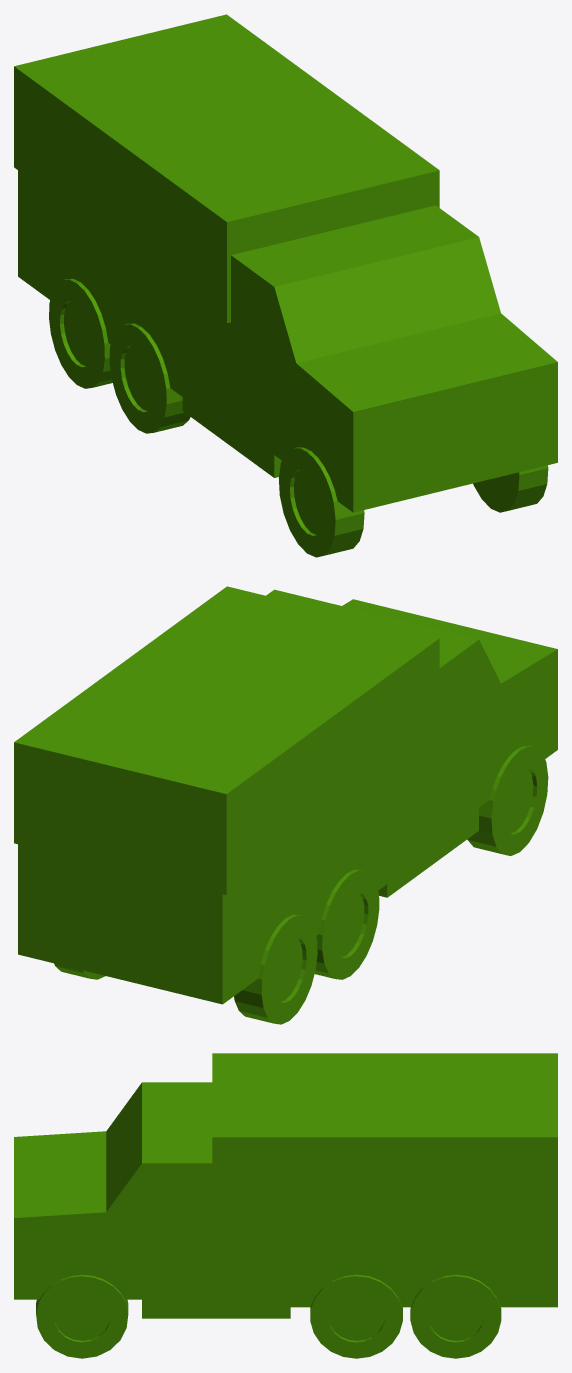
File: Boardgame_Piece_Military_Modern_Truck_Green_01.fbx
3 views of the same model, one above another, from view 1: azimuth 30°, elevation 25°; view 2: azimuth 150°, elevation 25°; view 3: azimuth 270°, elevation 25° (orthographic). The views are drawn at different scales.
Visible parts, largest first — view 1: Boardgame_Piece_Military_Modern_Truck_Green_01; view 2: Boardgame_Piece_Military_Modern_Truck_Green_01; view 3: Boardgame_Piece_Military_Modern_Truck_Green_01.
Boxes of the visible parts, x1,y1,x2,y2 form: Boardgame_Piece_Military_Modern_Truck_Green_01: (14,14,557,557); Boardgame_Piece_Military_Modern_Truck_Green_01: (14,586,557,1024); Boardgame_Piece_Military_Modern_Truck_Green_01: (14,1053,557,1358).
Bounding box in the file's own units: 643 × 787 × 1755.
